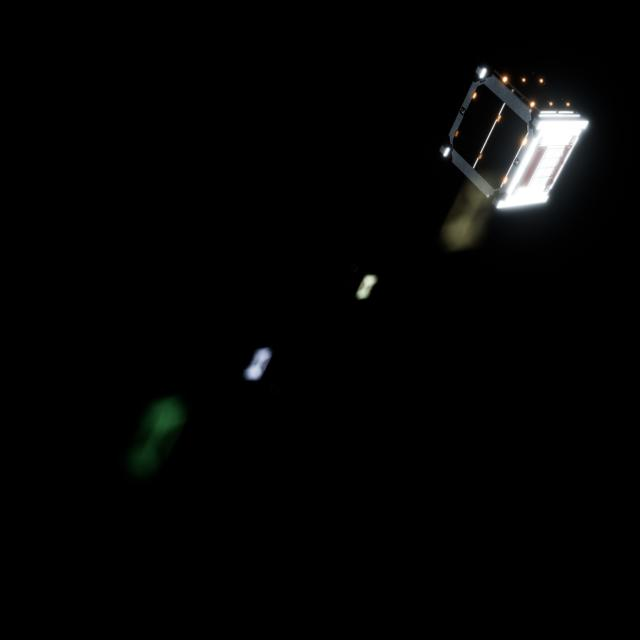medium_debris: (442, 59, 600, 233)
